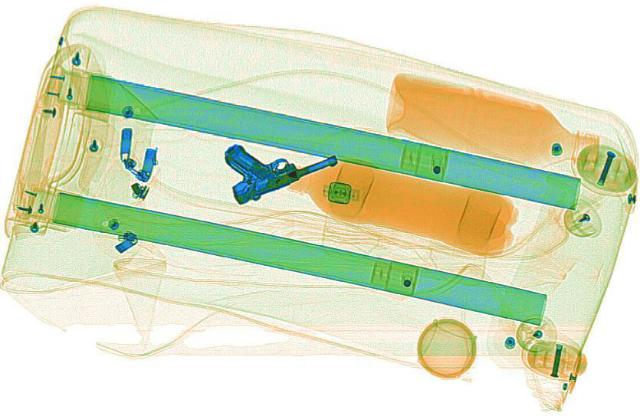Gun: (189, 117, 345, 204)
